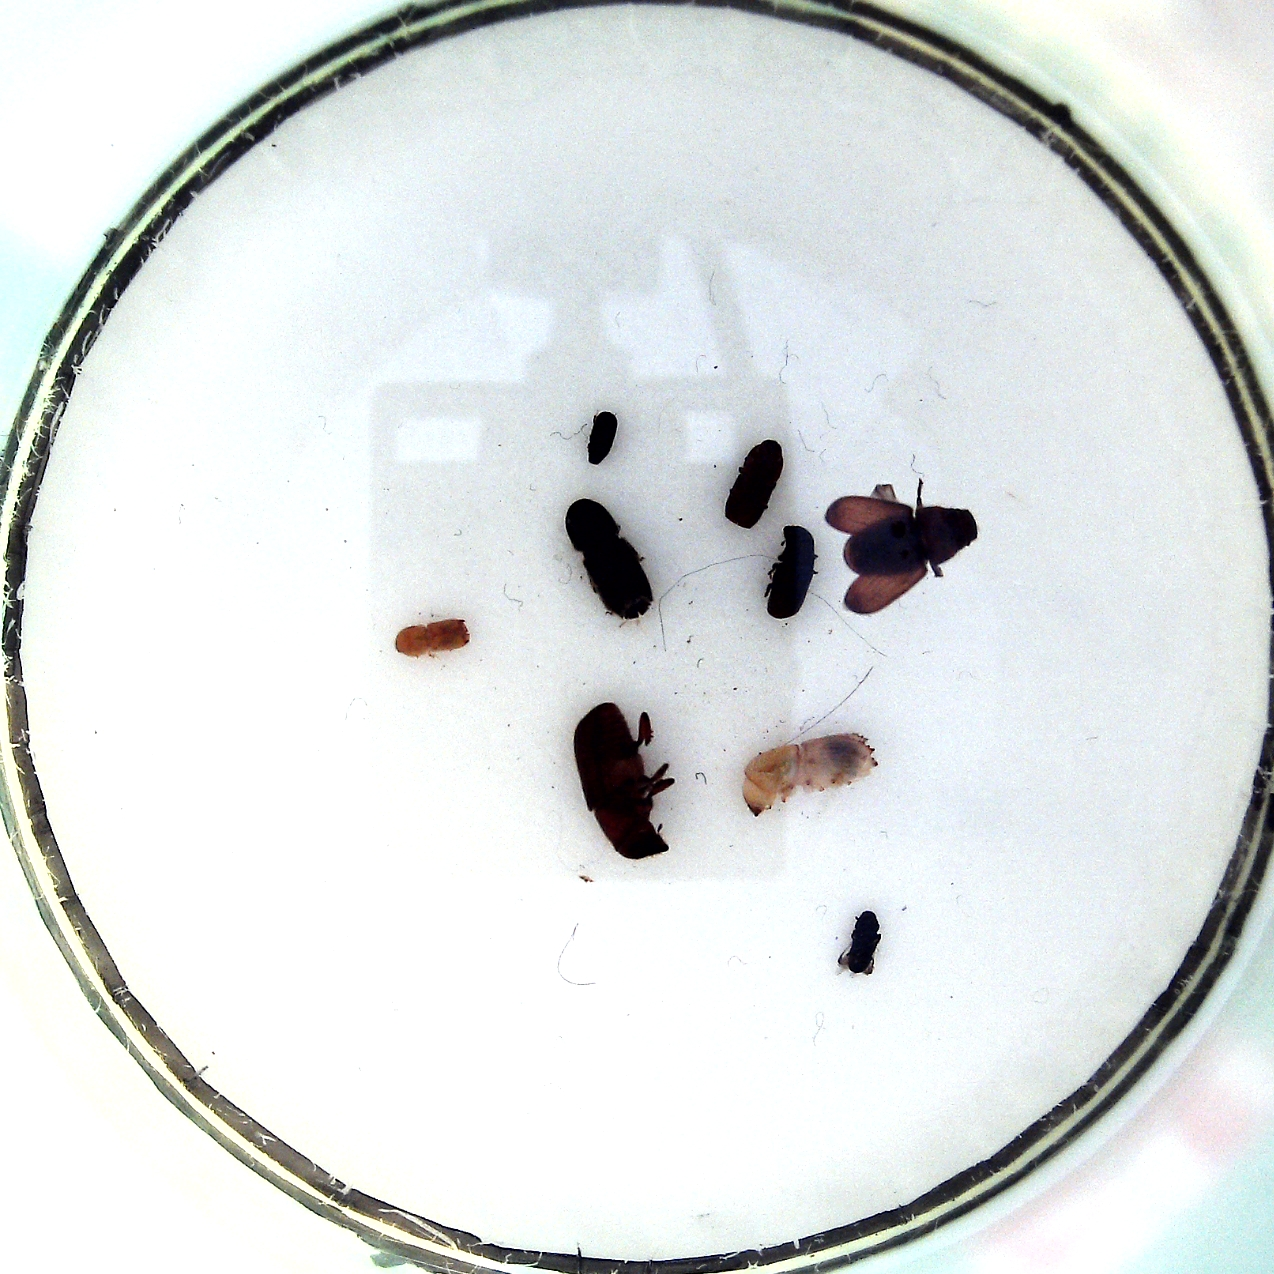Boerner: (733, 729, 887, 815)
Leconte: (822, 480, 984, 621), (566, 695, 681, 862), (559, 494, 663, 628)
Linnaeus: (720, 436, 787, 531)
acuminatus: (390, 611, 477, 661)
armandi: (758, 518, 825, 623)
coleoptera: (829, 908, 890, 980), (582, 406, 625, 469)
